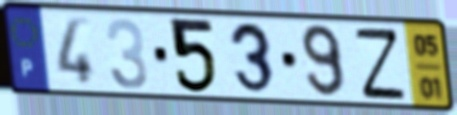3: (228, 19, 280, 98), (104, 16, 150, 91)
4: (53, 14, 99, 88)
5: (165, 17, 221, 96)
9: (299, 21, 348, 101)
Z: (351, 26, 409, 101)
